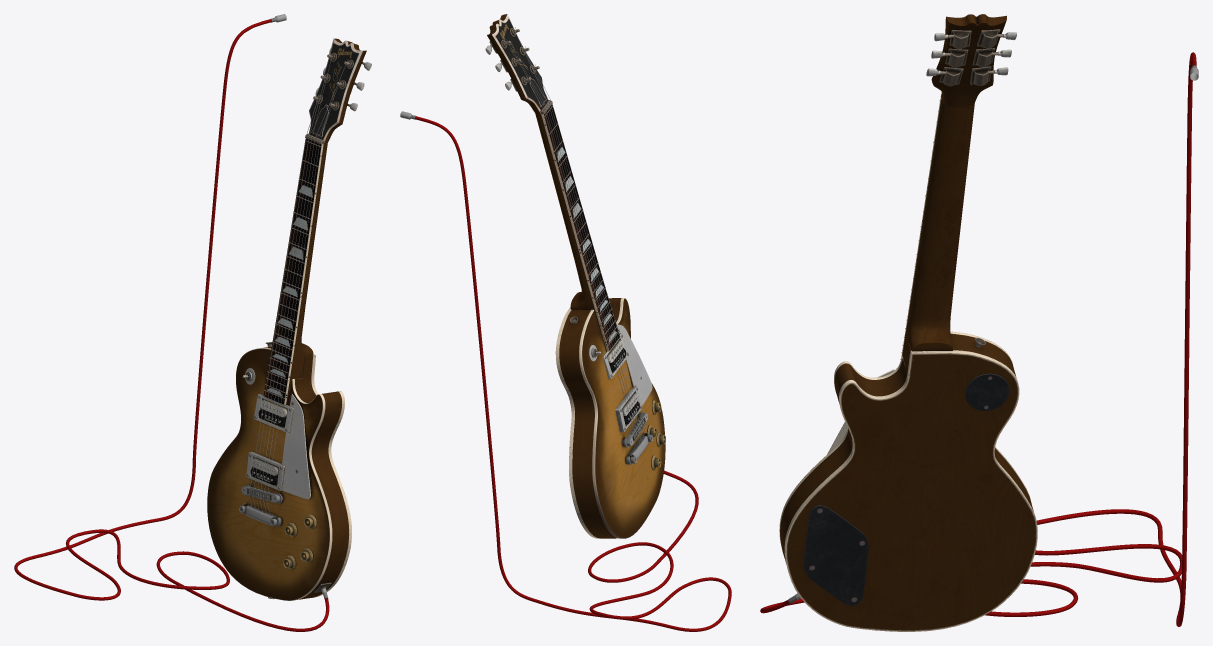
The model's file is gibson_guitar_conservative_meshopt.glb.
The picture shows the model from 3 angles, left to right: view 1: azimuth 30°, elevation 25°; view 2: azimuth 150°, elevation 25°; view 3: azimuth 270°, elevation 25°; orthographic projection. The views are drawn at different scales.
Parts seen in each view (by area): view 1: Les_Paul_Body.001, Les_Paul_BodyCover.001, BezierCurve.001; view 2: Les_Paul_Body.001, Les_Paul_BodyCover.001, BezierCurve.001; view 3: Les_Paul_Body.001, BezierCurve.001, Les_Paul_BodyCover.001.
Part boxes in pixels (<box>): Les_Paul_Body.001: <box>239,38,371,599</box>; Les_Paul_BodyCover.001: <box>207,348,332,600</box>; BezierCurve.001: <box>14,14,329,631</box>; Les_Paul_Body.001: <box>485,14,665,538</box>; Les_Paul_BodyCover.001: <box>579,298,665,538</box>; BezierCurve.001: <box>400,111,731,631</box>; Les_Paul_Body.001: <box>780,14,1037,631</box>; BezierCurve.001: <box>760,52,1198,626</box>; Les_Paul_BodyCover.001: <box>779,331,1030,555</box>.
Size of the model in its own units: 0.5963 by 0.9895 by 0.5758.
Materials: 8 (7 with a texture image).
